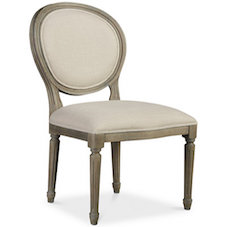chair: (16, 4, 205, 225)
